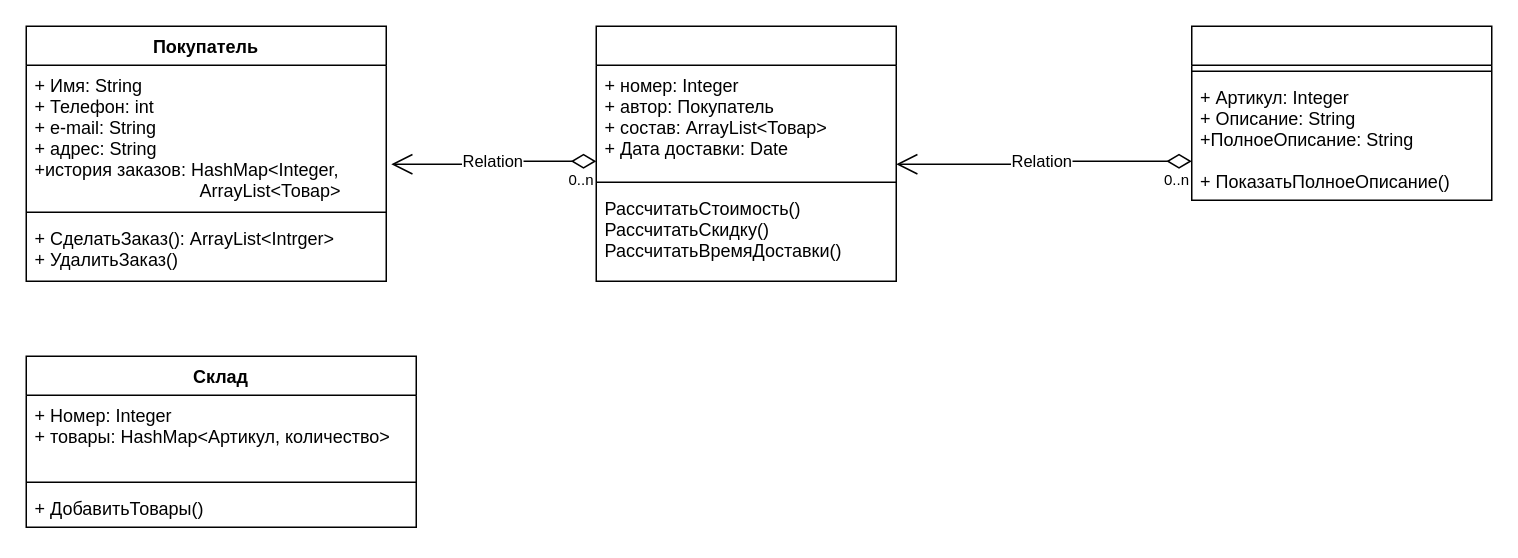
Image size: 1518x558. Some labels were removed from this diagram. Here are the shapes that lost their labels. From the top down, the box of each, then its label:
(1190, 25, 1492, 200): Товар
(595, 25, 896, 281): Заказ
